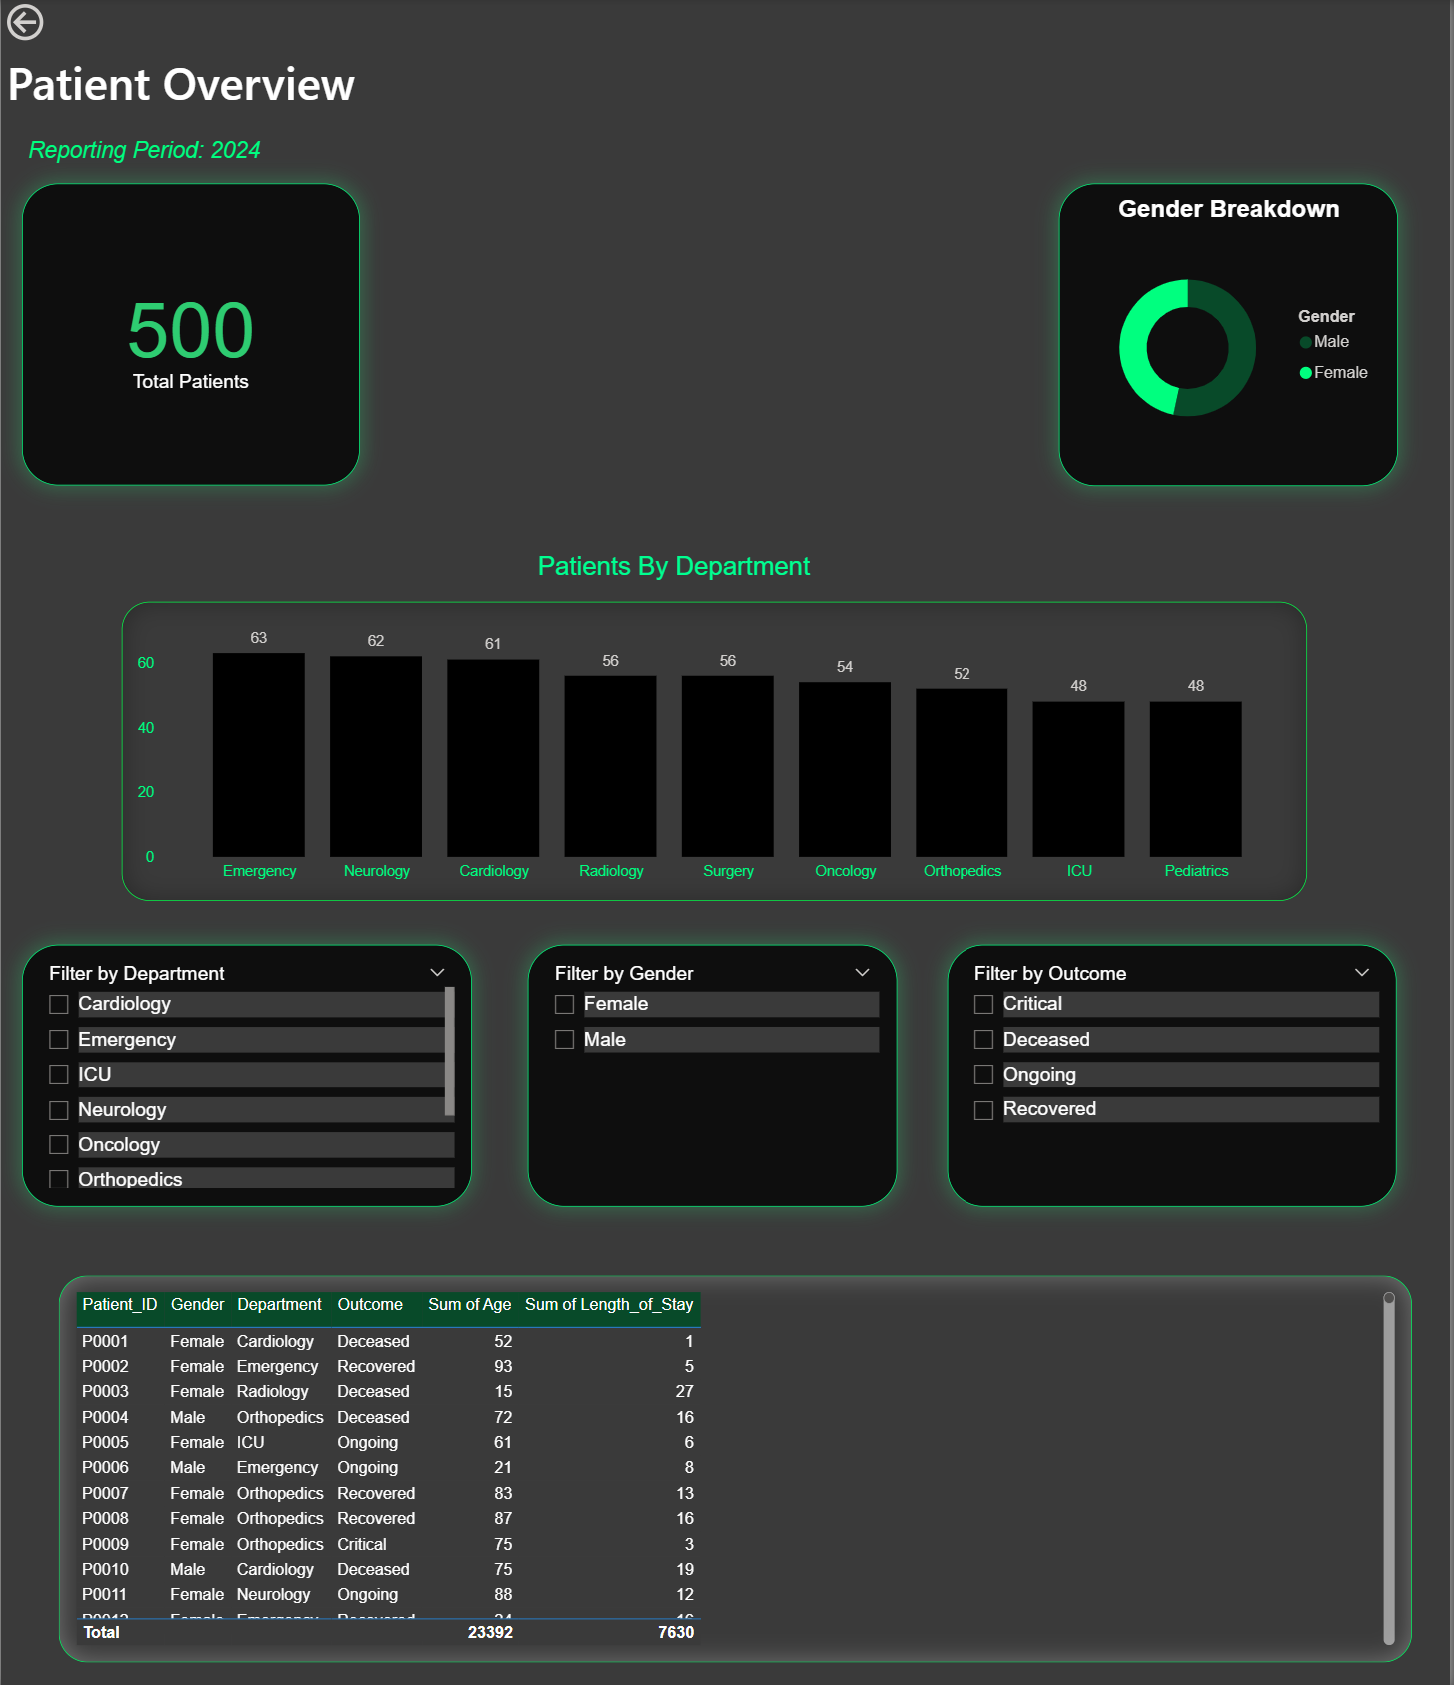

The page's visual inventory and layout, read from the dashboard file:
{"tool":"powerbi","page":{"name":"Patient","canvas":[1200,1400],"ordinal":1},"visuals":[{"type":"actionButton","box":[0,0,100,40],"z":0},{"type":"textbox","box":[0,39.7,474.3,88.8],"z":1000},{"type":"textbox","box":[17,109.6,374.2,58.6],"z":2000},{"type":"card","fields":{"Values":["Sheet1.Total Patients"]},"box":[17,153.1,279.7,249.5],"z":3000},{"type":"donutChart","title":"Gender Breakdown","fields":{"Category":["Sheet1.Gender"],"Y":["CountNonNull(Sheet1.Gender)"]},"box":[875,152.8,280.6,250],"z":4000},{"type":"clusteredColumnChart","fields":{"Category":["Sheet1.Department"],"Y":["CountNonNull(Sheet1.Patient_ID)"]},"box":[99.4,499.3,980.9,247.4],"z":5000},{"type":"textbox","box":[50.8,437.4,1011.8,55.2],"z":6000},{"type":"slicer","fields":{"Values":["Sheet1.Department"]},"box":[16.7,783.3,372.2,216.7],"z":7000},{"type":"slicer","fields":{"Values":["Sheet1.Gender"]},"box":[436.1,783.3,305.6,216.7],"z":8000},{"type":"slicer","fields":{"Values":["Sheet1.Outcome"]},"box":[783.3,783.3,372.2,216.7],"z":9000},{"type":"tableEx","fields":{"Values":["Sheet1.Patient_ID","Sheet1.Gender","Sheet1.Department","Sheet1.Outcome","Sum(Sheet1.Age)","Sum(Sheet1.Length_of_Stay)"]},"box":[48,1056,1120,320],"z":10000}]}

Visuals, with their boxes in screenshot pixels (x1, y1, x2, y2), scaled from the page's 1200x1400 canvas onto the 1454x1685 screenshot:
actionButton: 0 0 121 48
textbox: 0 48 575 155
textbox: 21 132 474 202
card - Sheet1.Total Patients: 21 184 360 485
"Gender Breakdown" donutChart: 1060 184 1400 485
clusteredColumnChart - Sheet1.Department x CountNonNull(Sheet1.Patient_ID): 120 601 1309 899
textbox: 62 526 1288 593
slicer - Sheet1.Department: 20 943 471 1204
slicer - Sheet1.Gender: 528 943 899 1204
slicer - Sheet1.Outcome: 949 943 1400 1204
tableEx - Sheet1.Patient_ID x Sheet1.Gender: 58 1271 1415 1656
